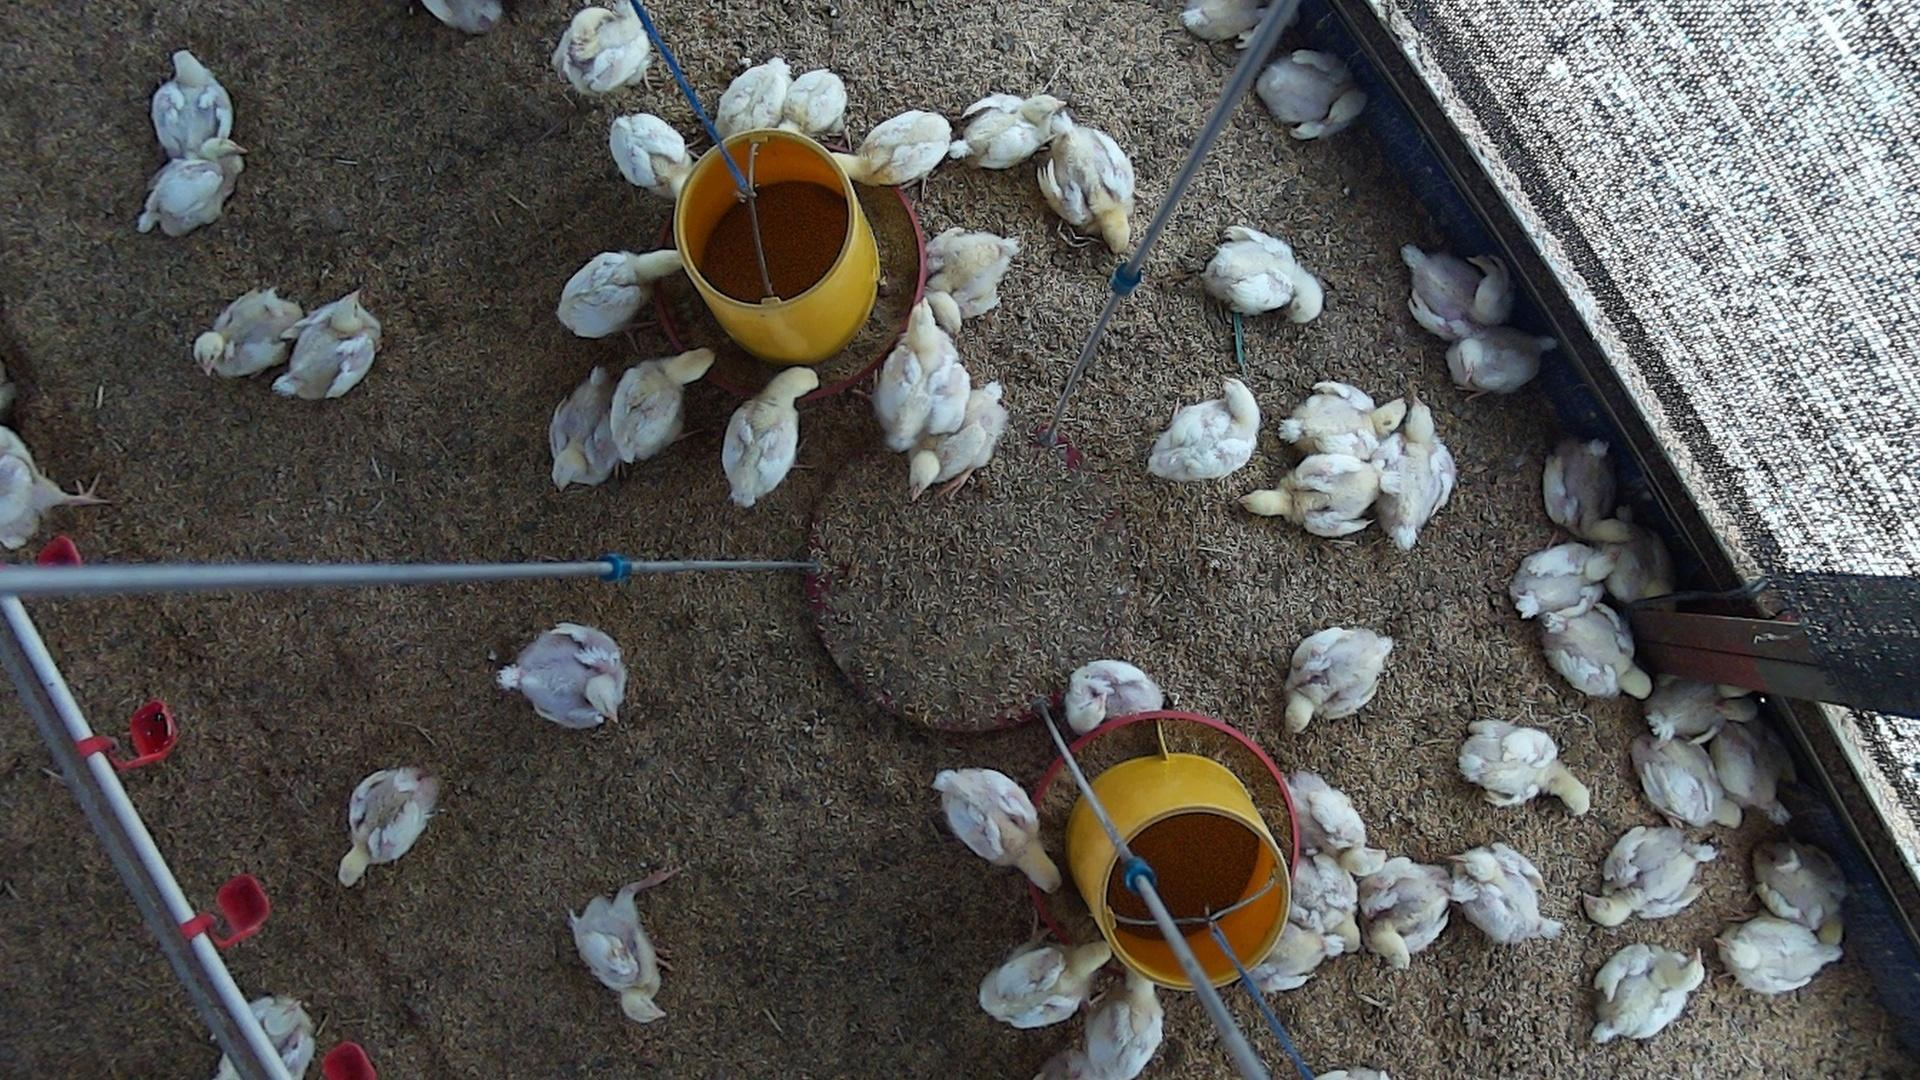ayam_broiler: (934, 769, 1062, 890), (873, 290, 968, 451), (721, 365, 819, 509), (496, 621, 626, 728), (0, 425, 109, 551), (570, 880, 666, 1021), (1242, 452, 1399, 537), (1589, 825, 1720, 926), (1042, 120, 1135, 253), (608, 347, 715, 463), (1458, 720, 1590, 811), (274, 287, 380, 398), (342, 766, 439, 885), (978, 939, 1110, 1026), (1149, 378, 1261, 480), (558, 249, 686, 338), (909, 382, 1010, 493), (1400, 240, 1513, 339), (1379, 402, 1455, 549), (1282, 771, 1386, 877), (1287, 626, 1394, 729), (1451, 843, 1557, 945), (1204, 228, 1324, 319), (1592, 944, 1705, 1039), (1544, 440, 1644, 543), (1361, 856, 1449, 972), (1545, 603, 1651, 698), (920, 225, 1019, 326), (1279, 381, 1406, 459), (195, 287, 305, 376), (1636, 736, 1739, 828), (137, 146, 244, 233), (1257, 51, 1362, 138), (551, 1, 651, 92), (951, 91, 1069, 167), (153, 49, 236, 157), (1720, 919, 1840, 993), (833, 111, 952, 183), (216, 994, 315, 1080), (1601, 504, 1679, 611), (1088, 971, 1164, 1079), (550, 367, 613, 489), (1756, 847, 1844, 934), (1714, 724, 1791, 822), (1514, 542, 1610, 618), (1242, 923, 1345, 994), (609, 112, 694, 198), (1288, 855, 1360, 953), (709, 57, 789, 144), (1068, 658, 1163, 729), (1447, 332, 1549, 392), (1647, 684, 1747, 742), (1175, 0, 1278, 49), (781, 69, 847, 137), (419, 0, 504, 33)
